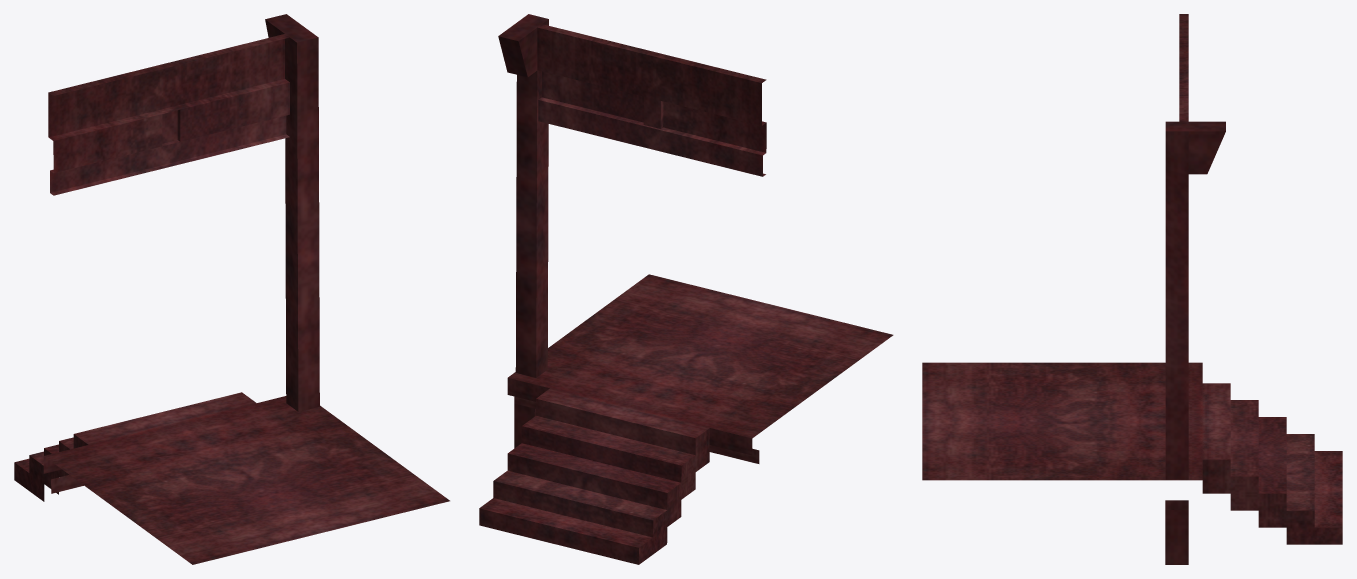
The model's file is NNJ0510078.fbx.
The picture shows the model from 3 angles, left to right: view 1: azimuth 30°, elevation 25°; view 2: azimuth 150°, elevation 25°; view 3: azimuth 270°, elevation 25°; orthographic projection. The views are drawn at different scales.
Visible parts, largest first — view 1: smNNJ0510078; view 2: smNNJ0510078; view 3: smNNJ0510078.
Part boxes in pixels (left/top/right/bottom): smNNJ0510078: left=14, top=14, right=449, bottom=564; smNNJ0510078: left=479, top=14, right=893, bottom=564; smNNJ0510078: left=922, top=14, right=1342, bottom=564.
Bounding box in the file's own units: 280 × 471 × 415.
1 material, 1 textured.
